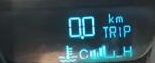-: (79, 34, 84, 40)
0: (67, 15, 81, 37), (81, 14, 95, 36)
X: (122, 23, 131, 38), (77, 47, 88, 59), (122, 44, 132, 57), (106, 11, 114, 24), (100, 25, 108, 38), (108, 25, 116, 38), (115, 14, 123, 23), (117, 25, 122, 38)
